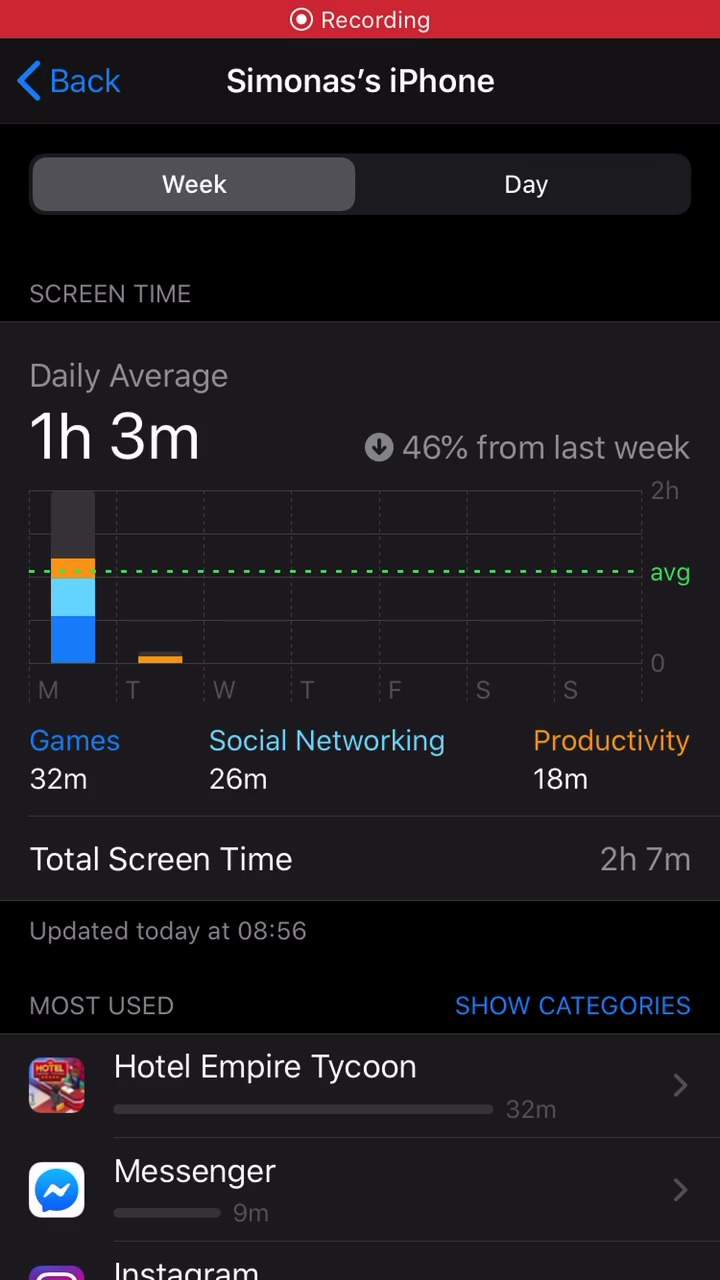use_over: (12, 721, 703, 900)
